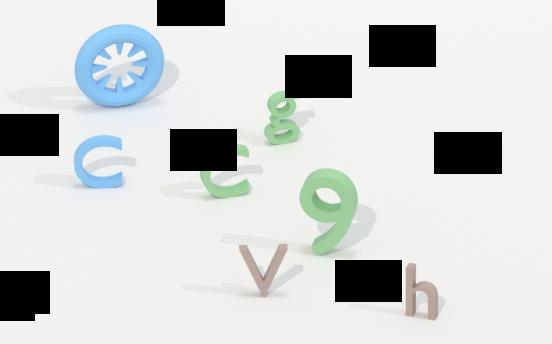9: (298, 166, 359, 259)
c: (199, 140, 252, 201), (72, 133, 127, 190)
g: (265, 89, 301, 149)
h: (405, 261, 440, 322)
tron: (73, 19, 168, 110)
v: (239, 239, 289, 299)
